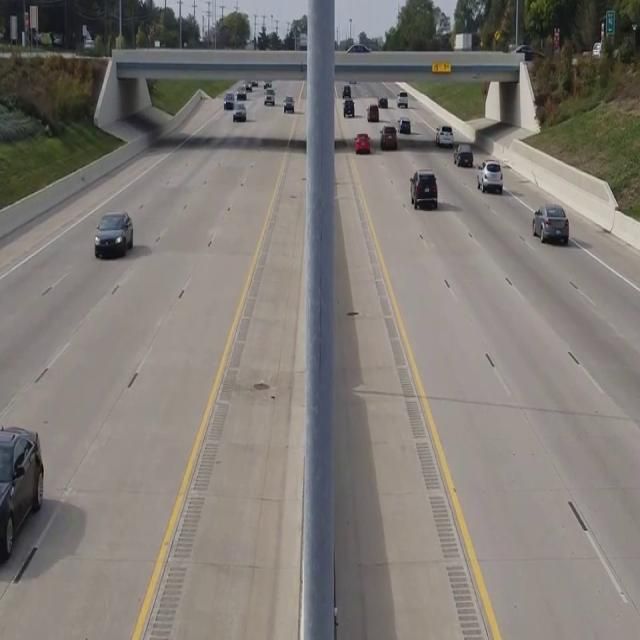car: (0, 424, 44, 566), (93, 211, 133, 258), (532, 204, 569, 244), (410, 170, 438, 208), (477, 159, 502, 193), (354, 131, 370, 153)
